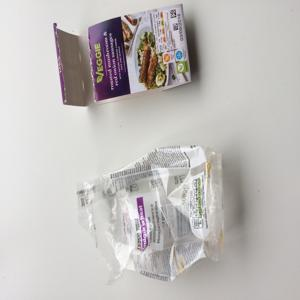cardboard: (44, 1, 198, 109)
plastic: (75, 147, 229, 283)
